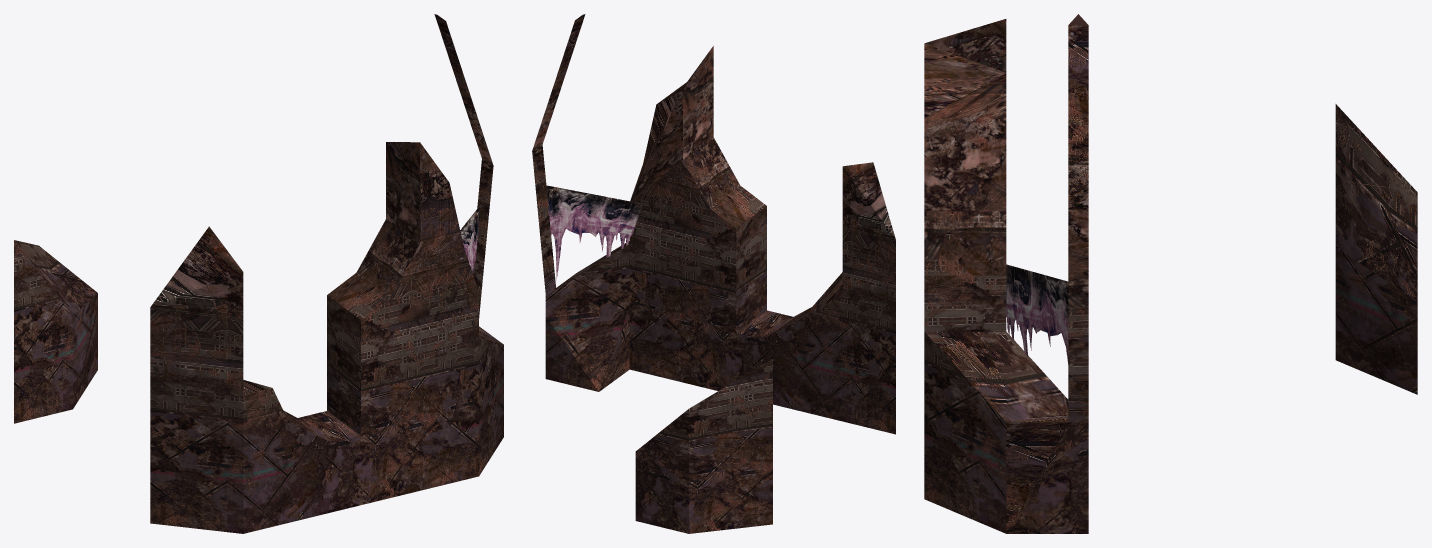
The model's file is bbdest01.FBX.
3 views of the same model, side by side, from view 1: azimuth 30°, elevation 25°; view 2: azimuth 150°, elevation 25°; view 3: azimuth 270°, elevation 25° (orthographic). The views are drawn at different scales.
Visible parts, largest first — view 1: bbdest01, hang__2; view 2: bbdest01, hang__2; view 3: bbdest01, hang__2.
Part boxes in pixels (x1,y1,x2,y2): bbdest01: (14,14,503,533); hang__2: (460,205,480,272); bbdest01: (532,14,895,533); hang__2: (546,185,642,280); bbdest01: (924,14,1417,533); hang__2: (1006,264,1068,363).
Size of the model in its own units: 25.03 by 24 by 26.64.
